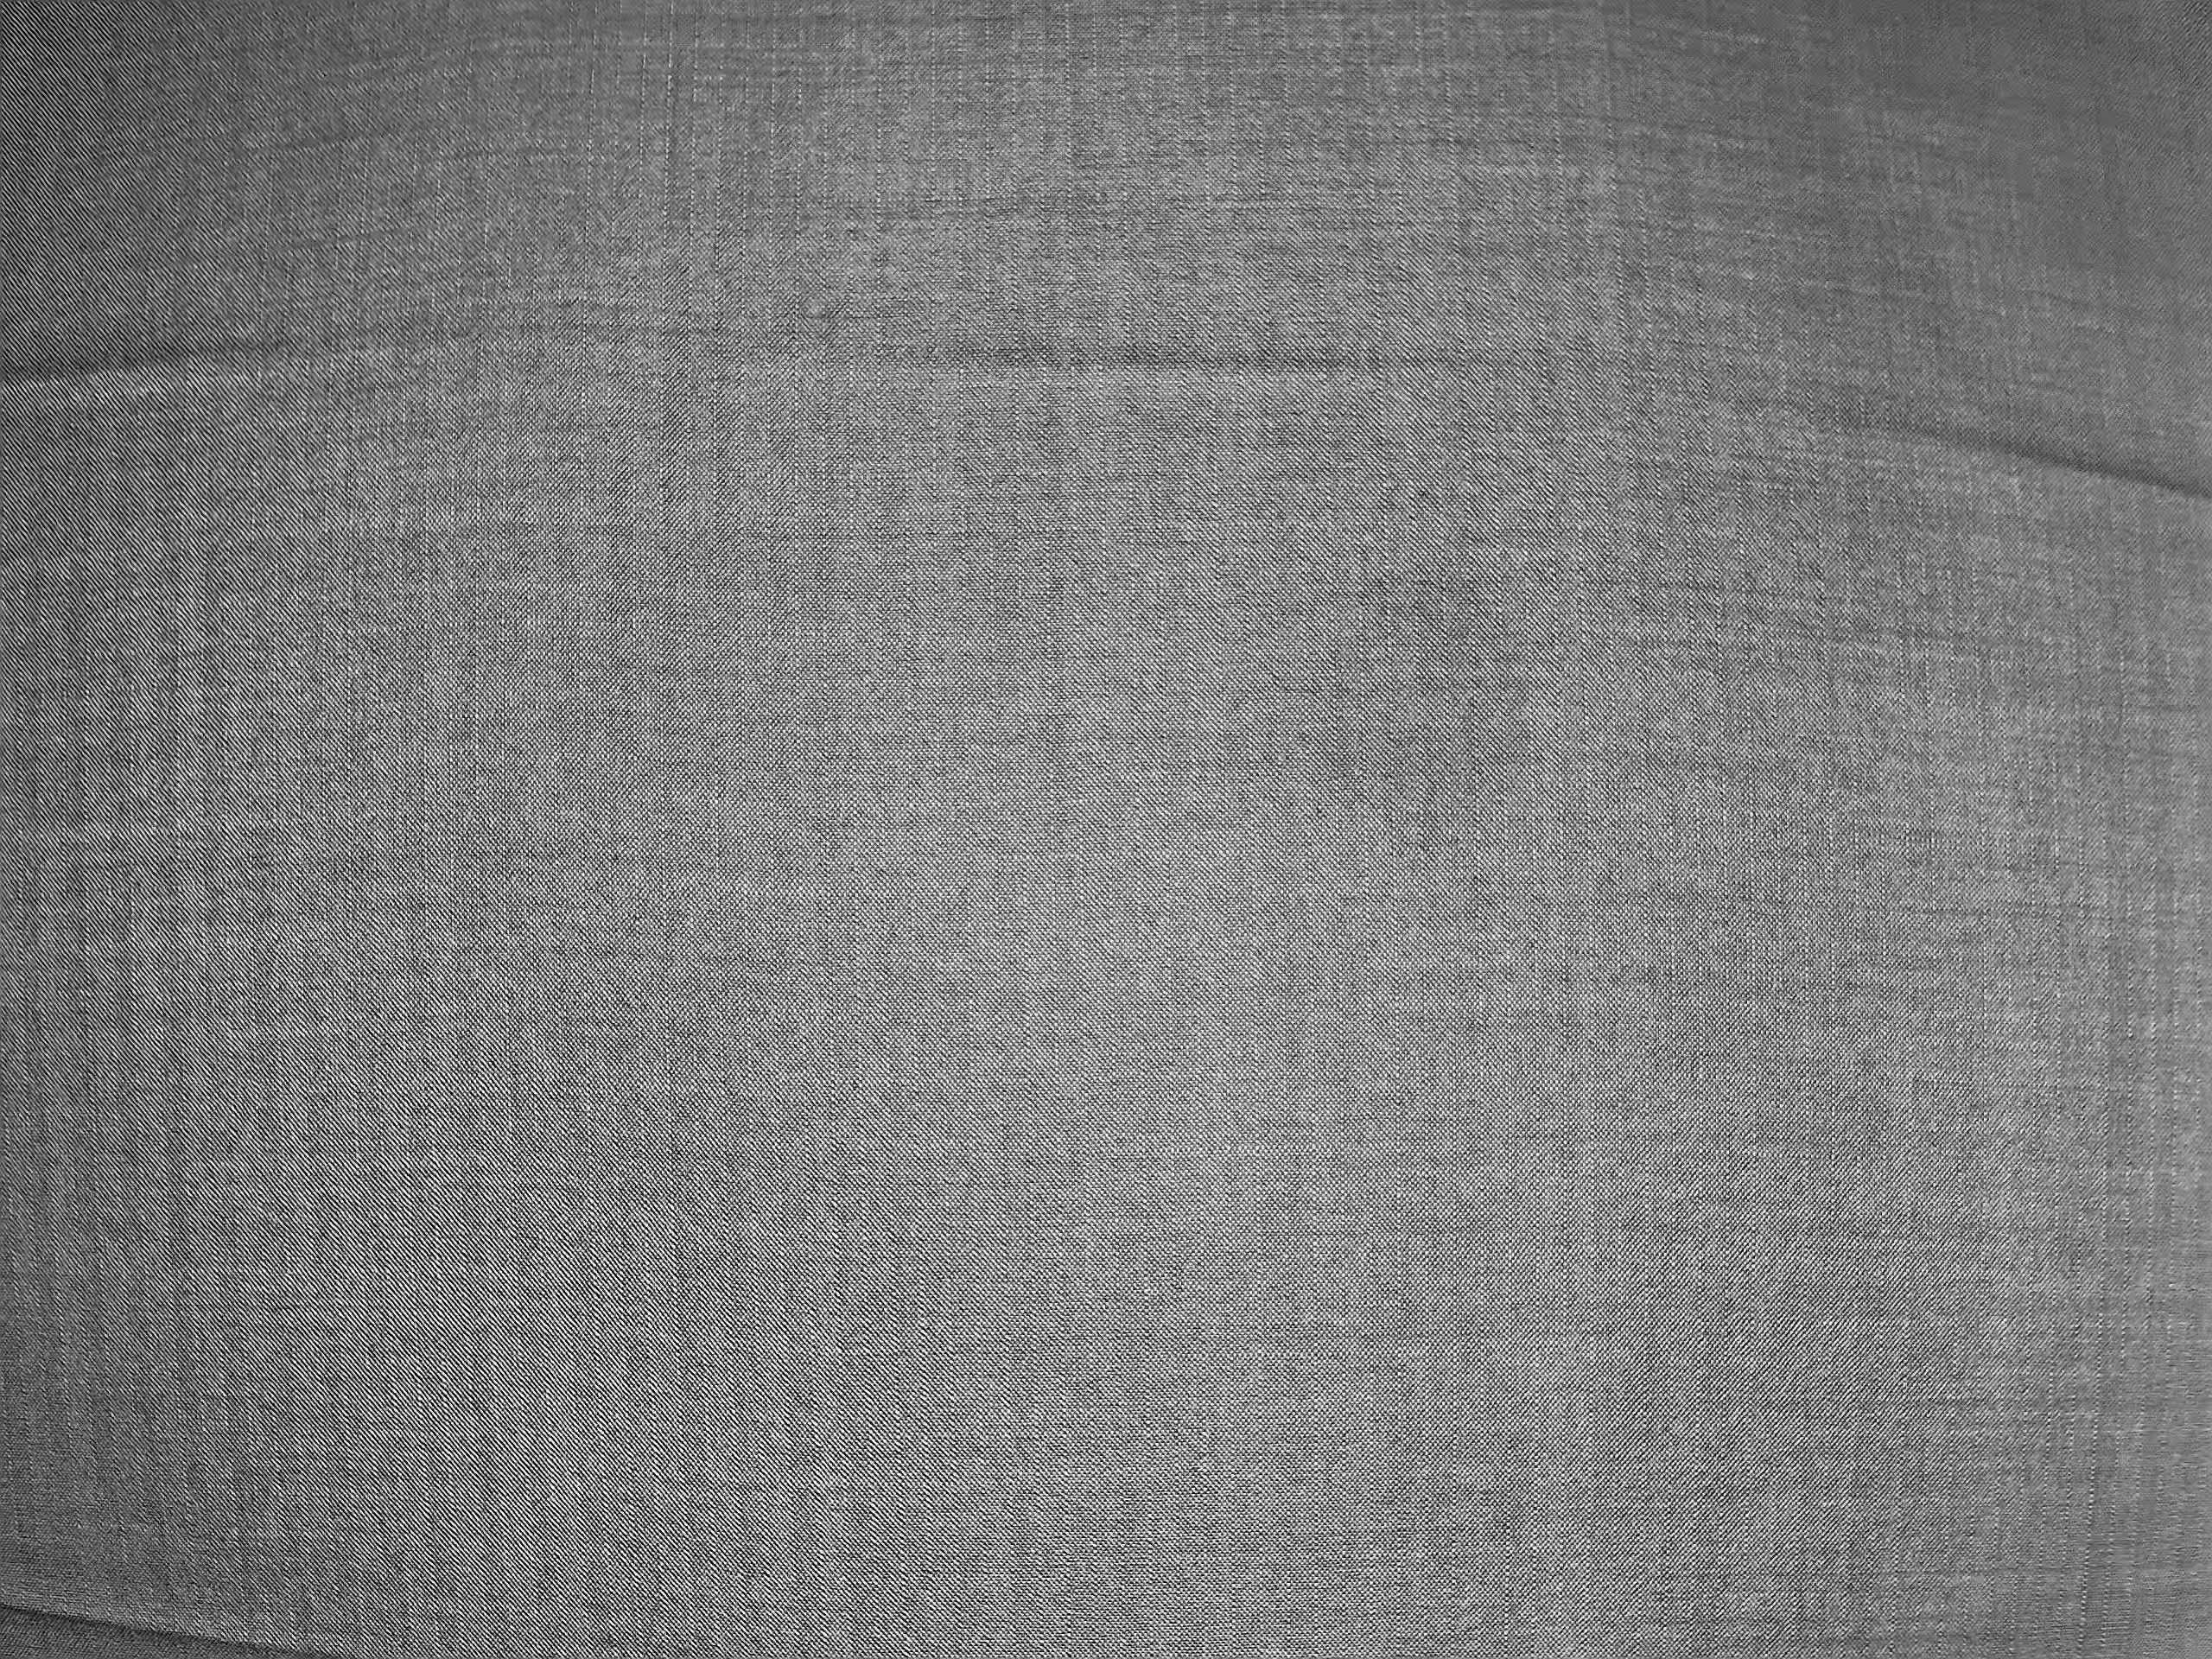stains: (1288, 539, 1574, 873)
